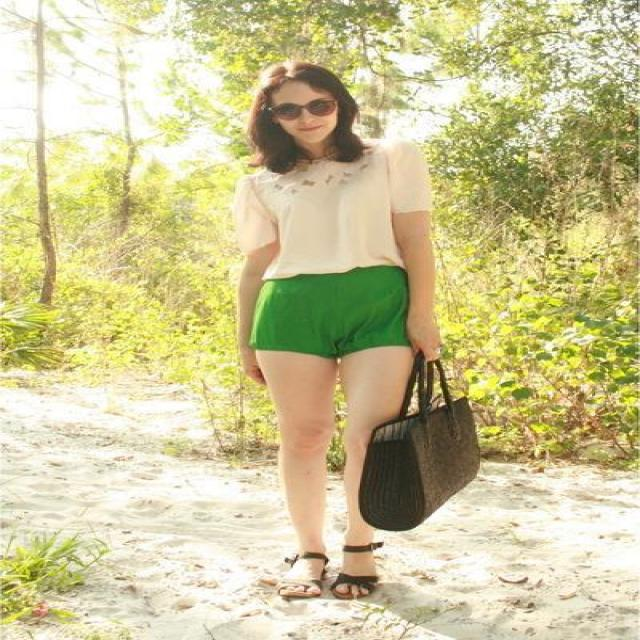bag: (358, 360, 499, 530)
shirt: (221, 144, 435, 278)
shorts: (252, 266, 410, 364)
